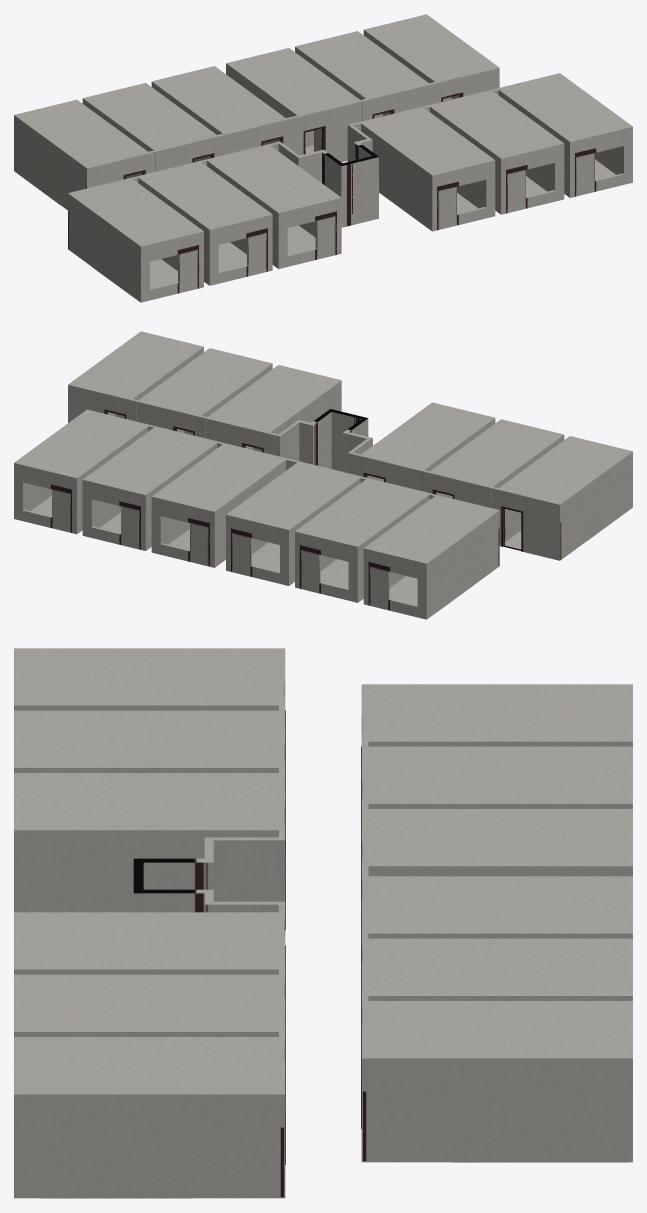
Rendered from rooms.glb.
3 views of the same model, one above another, from view 1: azimuth 30°, elevation 25°; view 2: azimuth 150°, elevation 25°; view 3: azimuth 270°, elevation 25° (orthographic). The views are drawn at different scales.
Visible parts, largest first — view 1: room, Cube.013, Cube.012, Cube.004; view 2: room, Cube.013, Cube.012, Cube.004; view 3: room, Cube.012, Cube.013, Cube.004.
Part boxes in pixels (x1,y1,x2,y2): room: (14,14,499,210); Cube.013: (68,143,341,302); Cube.012: (354,73,632,231); Cube.004: (274,123,378,227); room: (14,409,499,619); Cube.013: (353,402,632,560); Cube.012: (68,331,341,454); Cube.004: (274,409,372,474); room: (361,684,632,1162); Cube.012: (14,907,285,1198); Cube.013: (14,648,285,929); Cube.004: (133,835,285,912).
Size of the model in its own units: 26.06 by 3.12 by 15.28.
2 materials, 2 textured.
